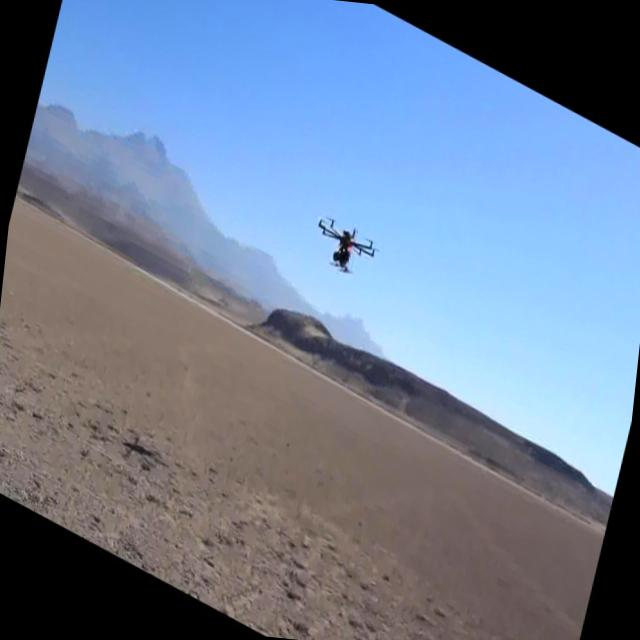drone: (304, 206, 382, 290)
